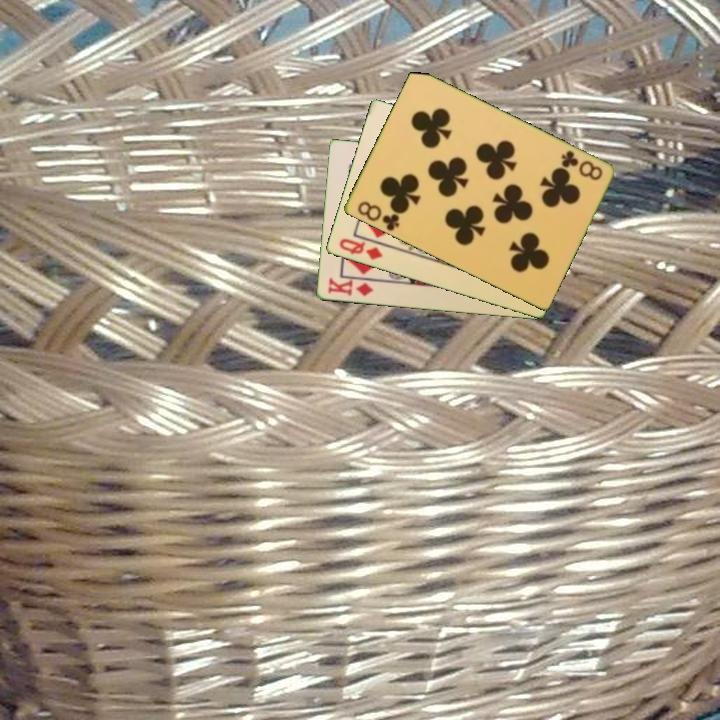8c: (353, 198, 404, 234), (557, 147, 605, 183)
Kd: (324, 275, 376, 299)
Qd: (335, 235, 386, 263)
